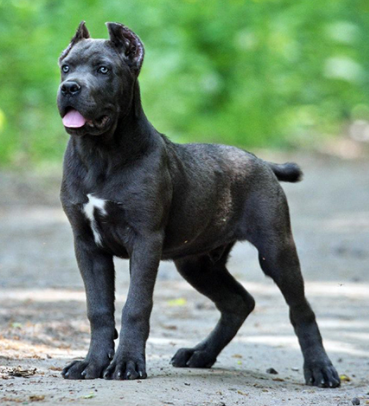dog: (53, 22, 342, 387)
